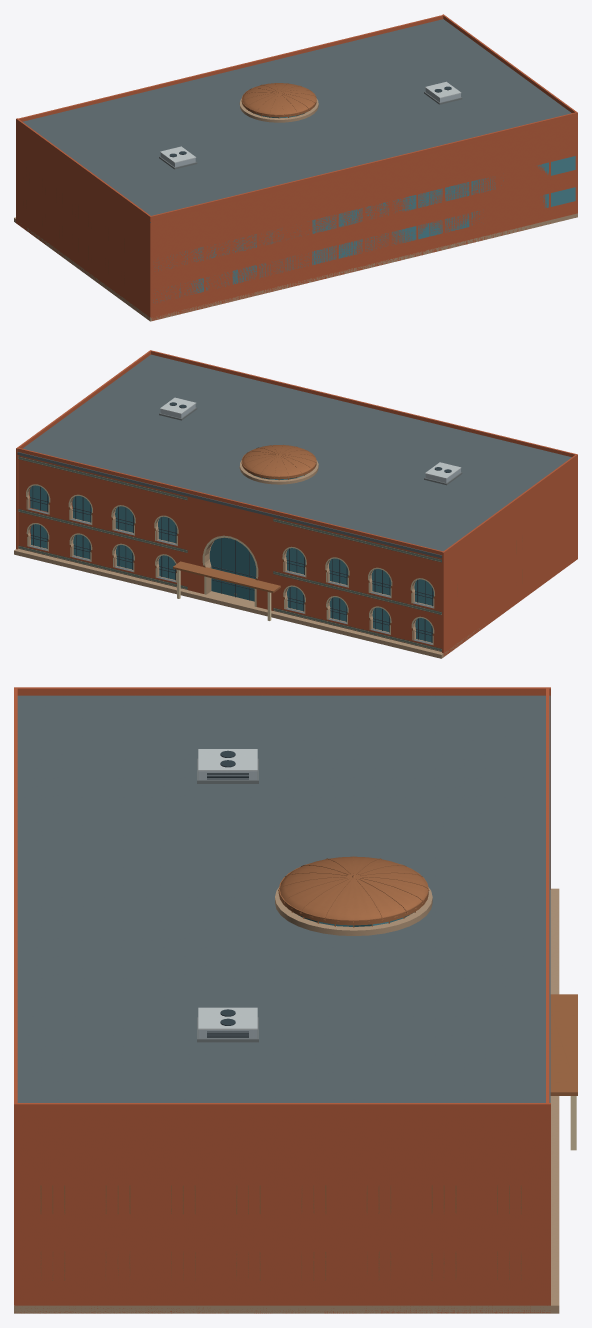
Rendered from RAK_admin.glb.
3 renders of one model, top to bottom at view 1: azimuth 30°, elevation 25°; view 2: azimuth 150°, elevation 25°; view 3: azimuth 270°, elevation 25°, orthographic. The views are drawn at different scales.
Parts seen in each view (by area): view 1: RAK_admin; view 2: RAK_admin; view 3: RAK_admin.
Boxes of the visible parts, x1=… form: RAK_admin: x1=14, y1=14, x2=577, y2=321; RAK_admin: x1=14, y1=350, x2=577, y2=658; RAK_admin: x1=14, y1=687, x2=577, y2=1313.
Size of the model in its own units: 70 by 18 by 40.
Materials: 14 (14 with a texture image).
